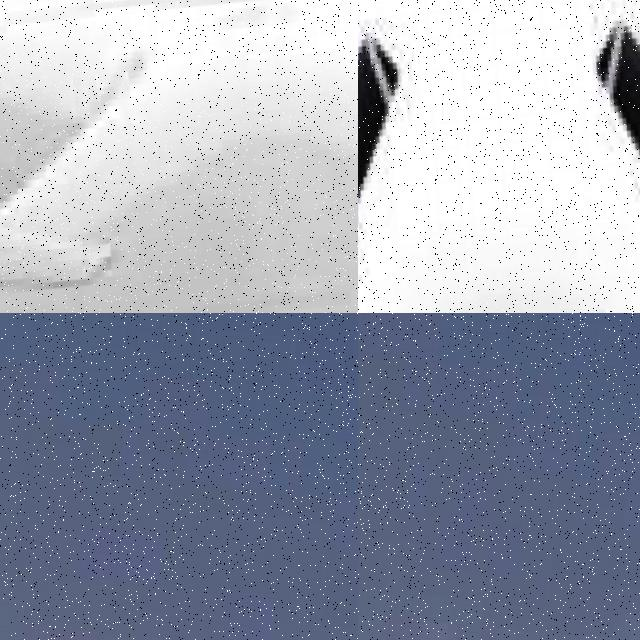drone: (0, 0, 358, 313), (358, 0, 640, 313)
